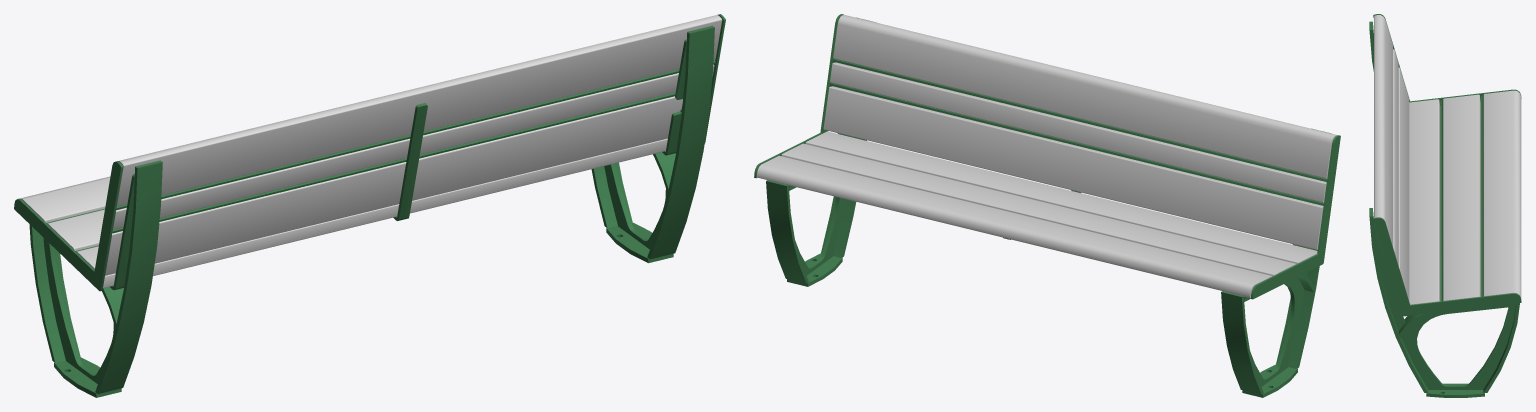
The picture shows the model from 3 angles, left to right: view 1: azimuth 30°, elevation 25°; view 2: azimuth 150°, elevation 25°; view 3: azimuth 270°, elevation 25°; orthographic projection. The views are drawn at different scales.
Visible parts, largest first — view 1: mesh22_mesh22-geometry, mesh25_mesh25-geometry, mesh5_mesh5-geometry, mesh19_mesh19-geometry, mesh3_mesh3-geometry, mesh7_mesh7-geometry, mesh31_mesh31-geometry, mesh33_mesh33-geometry, mesh34_mesh34-geometry, mesh13_mesh13-geometry, mesh28_mesh28-geometry, mesh30_mesh30-geometry (+2 smaller); view 2: mesh22_mesh22-geometry, mesh25_mesh25-geometry, mesh19_mesh19-geometry, mesh3_mesh3-geometry, mesh7_mesh7-geometry, mesh5_mesh5-geometry, mesh31_mesh31-geometry, mesh33_mesh33-geometry, mesh34_mesh34-geometry, mesh13_mesh13-geometry, mesh32_mesh32-geometry; view 3: mesh22_mesh22-geometry, mesh25_mesh25-geometry, mesh7_mesh7-geometry, mesh32_mesh32-geometry, mesh19_mesh19-geometry, mesh5_mesh5-geometry, mesh11_mesh11-geometry, mesh35_mesh35-geometry, mesh36_mesh36-geometry, mesh13_mesh13-geometry, mesh3_mesh3-geometry, mesh31_mesh31-geometry (+1 smaller).
Part boxes in pixels (x1,y1,x2,y2): mesh22_mesh22-geometry: [47, 96, 682, 288]; mesh25_mesh25-geometry: [20, 15, 722, 222]; mesh5_mesh5-geometry: [95, 25, 714, 393]; mesh19_mesh19-geometry: [112, 64, 714, 229]; mesh3_mesh3-geometry: [29, 162, 632, 362]; mesh7_mesh7-geometry: [43, 163, 667, 383]; mesh31_mesh31-geometry: [14, 161, 123, 291]; mesh33_mesh33-geometry: [116, 61, 715, 210]; mesh34_mesh34-geometry: [112, 92, 675, 233]; mesh13_mesh13-geometry: [54, 222, 673, 397]; mesh28_mesh28-geometry: [393, 103, 427, 220]; mesh30_mesh30-geometry: [110, 174, 134, 290]; mesh22_mesh22-geometry: [781, 86, 1323, 276]; mesh25_mesh25-geometry: [756, 15, 1337, 297]; mesh19_mesh19-geometry: [830, 62, 1326, 202]; mesh3_mesh3-geometry: [766, 180, 1263, 394]; mesh7_mesh7-geometry: [789, 187, 1304, 386]; mesh5_mesh5-geometry: [821, 17, 1331, 368]; mesh31_mesh31-geometry: [1251, 135, 1340, 299]; mesh33_mesh33-geometry: [833, 59, 1327, 181]; mesh34_mesh34-geometry: [830, 83, 1323, 205]; mesh13_mesh13-geometry: [787, 253, 1297, 397]; mesh32_mesh32-geometry: [754, 14, 843, 178]; mesh22_mesh22-geometry: [1398, 67, 1480, 304]; mesh25_mesh25-geometry: [1374, 15, 1521, 298]; mesh7_mesh7-geometry: [1401, 303, 1515, 389]; mesh32_mesh32-geometry: [1373, 217, 1521, 316]; mesh19_mesh19-geometry: [1393, 49, 1398, 265]; mesh5_mesh5-geometry: [1369, 21, 1428, 392]; mesh11_mesh11-geometry: [1373, 32, 1405, 331]; mesh35_mesh35-geometry: [1440, 100, 1442, 301]; mesh36_mesh36-geometry: [1481, 95, 1483, 296]; mesh13_mesh13-geometry: [1426, 383, 1484, 397]; mesh3_mesh3-geometry: [1483, 303, 1519, 392]; mesh31_mesh31-geometry: [1373, 14, 1521, 105].
Bounding box in the file's own units: 0.8863 × 0.3698 × 0.2787.
